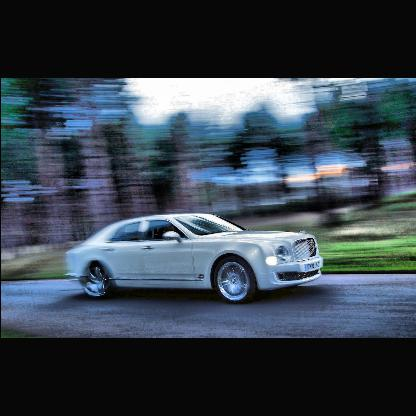Bentley Mulsanne Sedan 2011: (68, 214, 325, 305)
